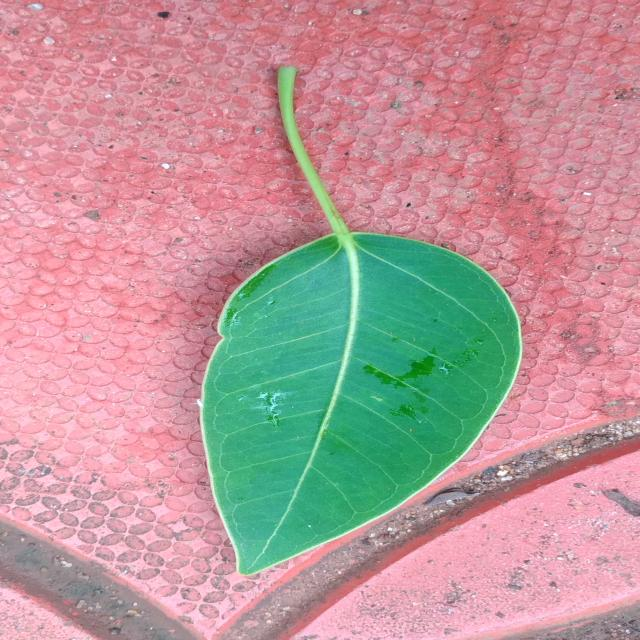camphor: (202, 66, 522, 575)
